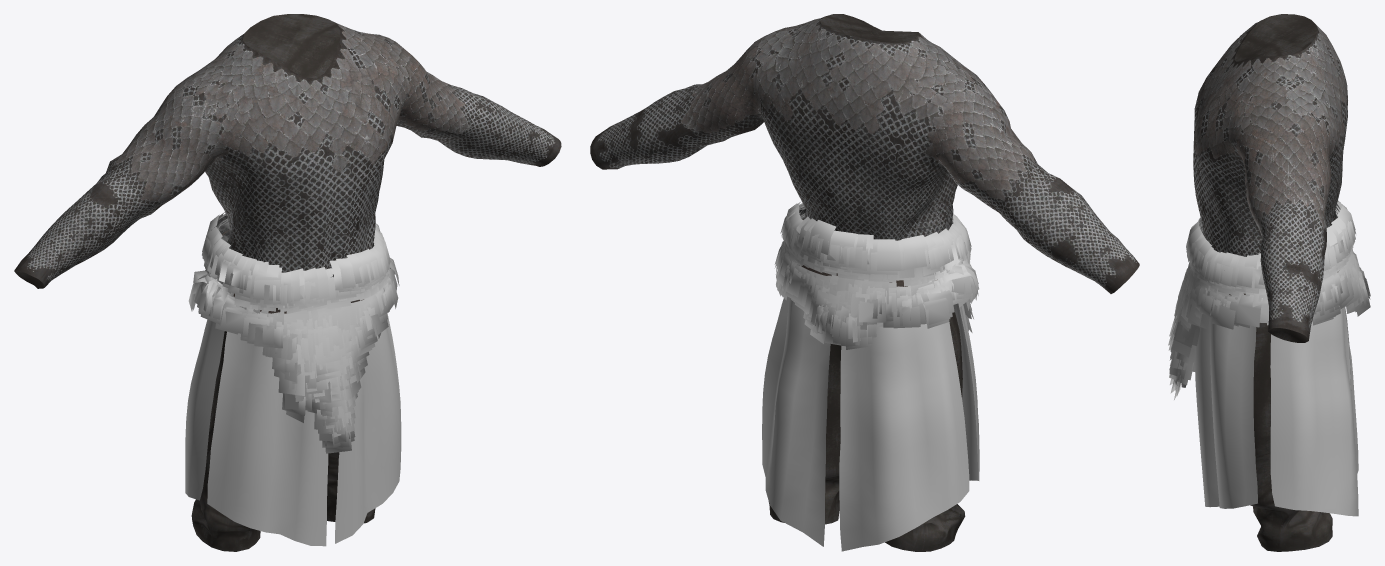
Rendered from sk_gb_uruk_chest_light_c.fbx.
3 views of the same model, side by side, from view 1: azimuth 30°, elevation 25°; view 2: azimuth 150°, elevation 25°; view 3: azimuth 270°, elevation 25° (orthographic). The views are drawn at different scales.
Visible parts, largest first — view 1: sk_gb_uruk_chest_light_c.base, sk_gb_uruk_chest_light_c.skirt.1, sk_gb_uruk_chest_light_c.skirt.2; view 2: sk_gb_uruk_chest_light_c.base, sk_gb_uruk_chest_light_c.skirt.1, sk_gb_uruk_chest_light_c.skirt.2; view 3: sk_gb_uruk_chest_light_c.base, sk_gb_uruk_chest_light_c.skirt.1, sk_gb_uruk_chest_light_c.skirt.2.
Part boxes in pixels (box(x1,y1,x2,y2)): sk_gb_uruk_chest_light_c.base: box(14, 14, 561, 551); sk_gb_uruk_chest_light_c.skirt.1: box(185, 313, 401, 546); sk_gb_uruk_chest_light_c.skirt.2: box(188, 212, 399, 453); sk_gb_uruk_chest_light_c.base: box(590, 14, 1139, 551); sk_gb_uruk_chest_light_c.skirt.1: box(762, 296, 979, 551); sk_gb_uruk_chest_light_c.skirt.2: box(774, 202, 979, 349); sk_gb_uruk_chest_light_c.base: box(1193, 14, 1347, 551); sk_gb_uruk_chest_light_c.skirt.1: box(1195, 306, 1358, 516); sk_gb_uruk_chest_light_c.skirt.2: box(1168, 200, 1370, 399).
Size of the model in its own units: 1.35 by 0.4541 by 1.2.
